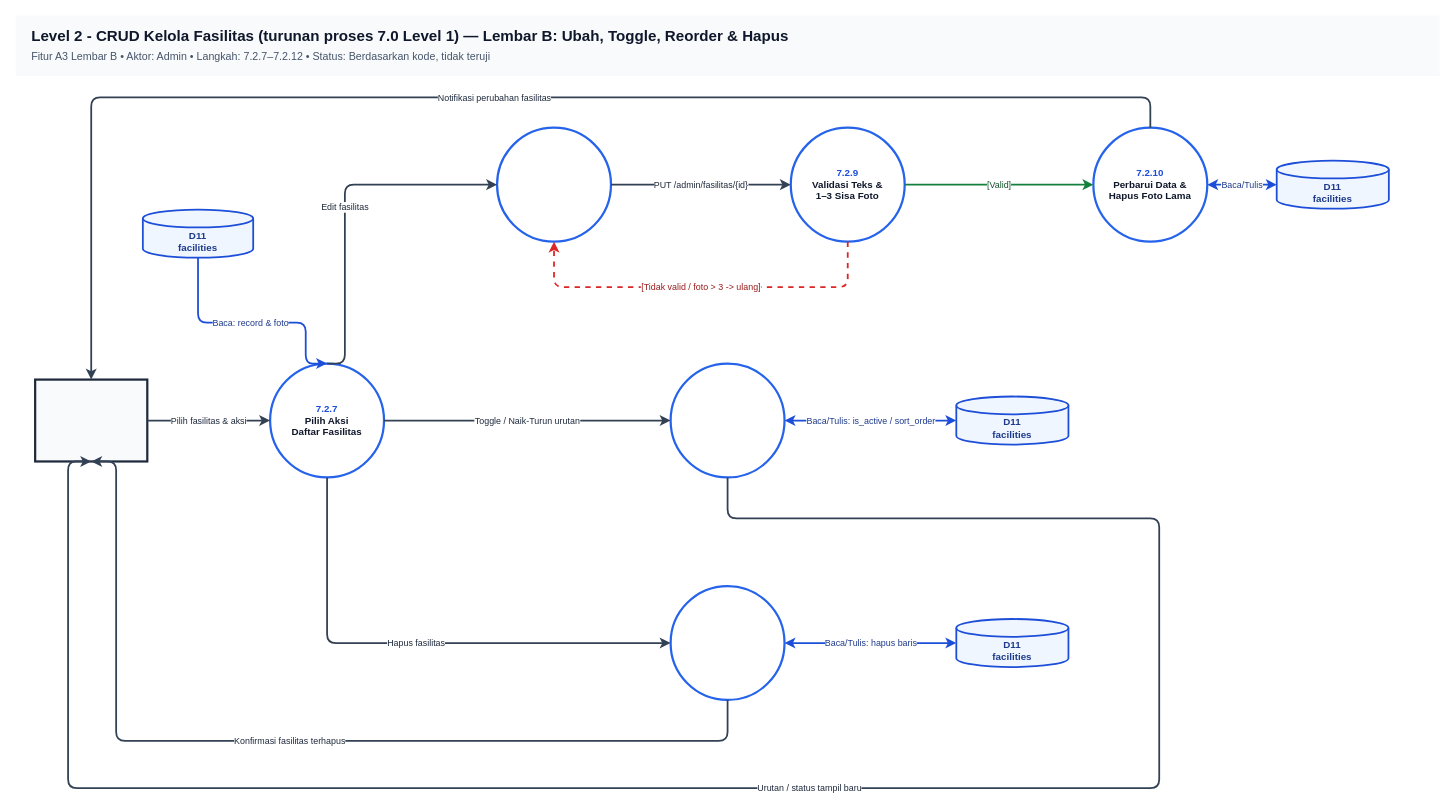
The diagram is 1454 pixels wide and 811 high, and some of its shapes have lost their labels. The shapes that lost their labels are listed below. From the top down, each one's box as (x1, y1, x2, y2) in pixels, then its label:
(496, 126, 612, 242): 7.2.8 Ubah Form & Foto Lama/Baru
(34, 378, 148, 462): Admin Terautentikasi
(669, 362, 785, 478): 7.2.11 Toggle Aktif / Ubah Urutan
(669, 585, 785, 701): 7.2.12 Hapus Foto Fisik & Data Fasilitas
